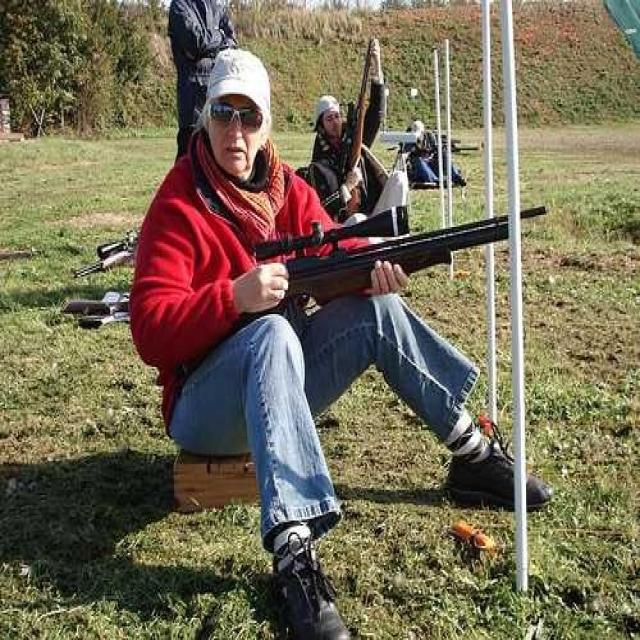heavyweapon: (200, 158, 566, 358)
